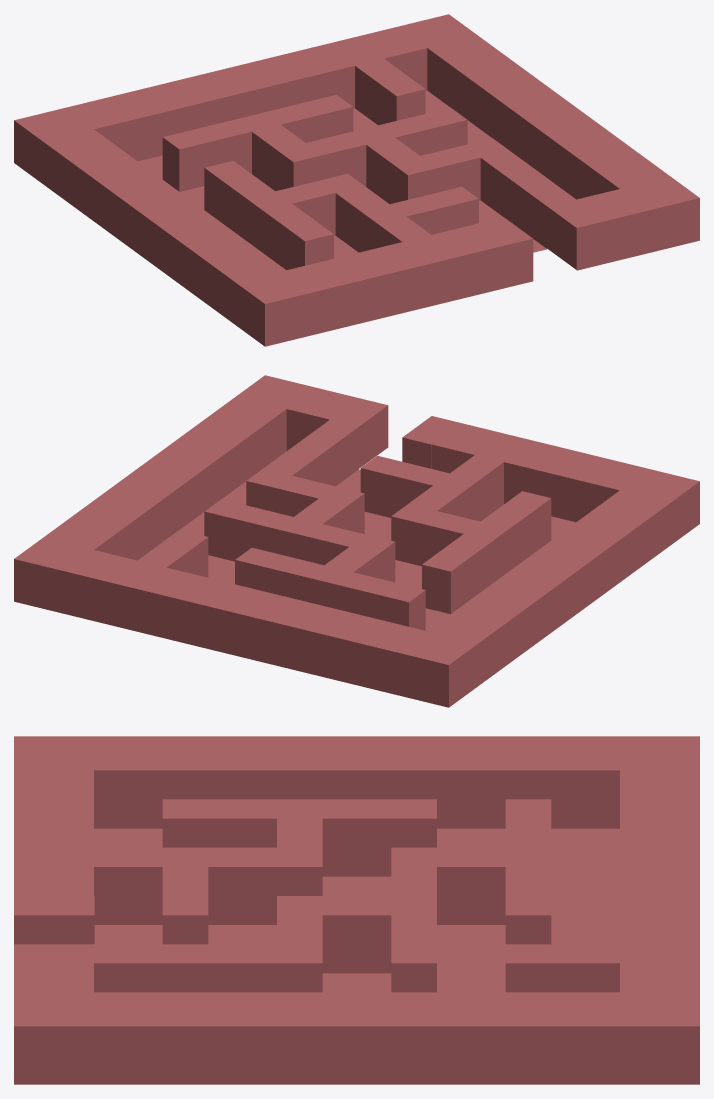
Rendered from level1.fbx.
3 renders of one model, top to bottom at view 1: azimuth 30°, elevation 25°; view 2: azimuth 150°, elevation 25°; view 3: azimuth 270°, elevation 25°, orthographic. The views are drawn at different scales.
Parts seen in each view (by area): view 1: Plane; view 2: Plane; view 3: Plane.
Boxes of the visible parts, bbox=[...] form: Plane: bbox=[14, 14, 699, 346]; Plane: bbox=[14, 375, 699, 707]; Plane: bbox=[14, 736, 699, 1084].
Bounding box in the file's own units: 1600 × 150 × 1600.
